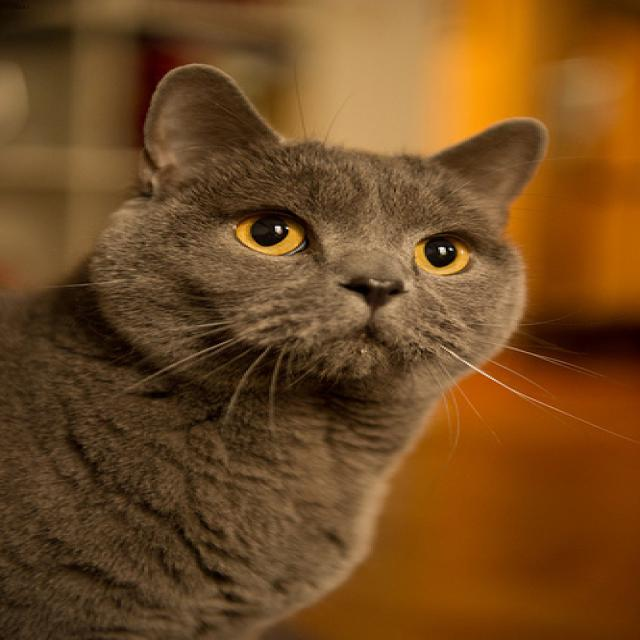British_Shorthair: (140, 61, 546, 375)
